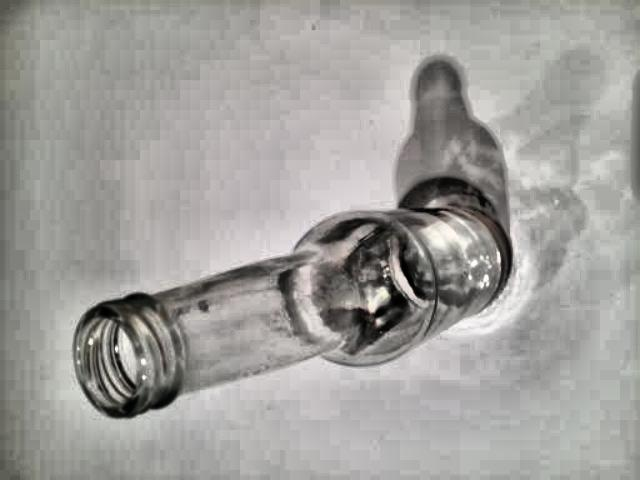Bottles: (77, 184, 527, 438)
